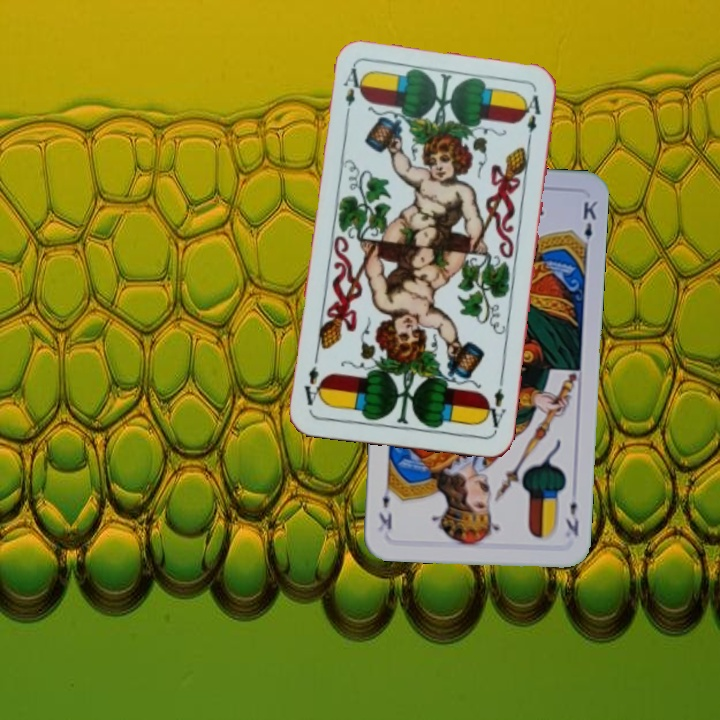EA: (481, 374, 510, 433), (339, 63, 363, 122)
EK: (561, 497, 582, 539)
